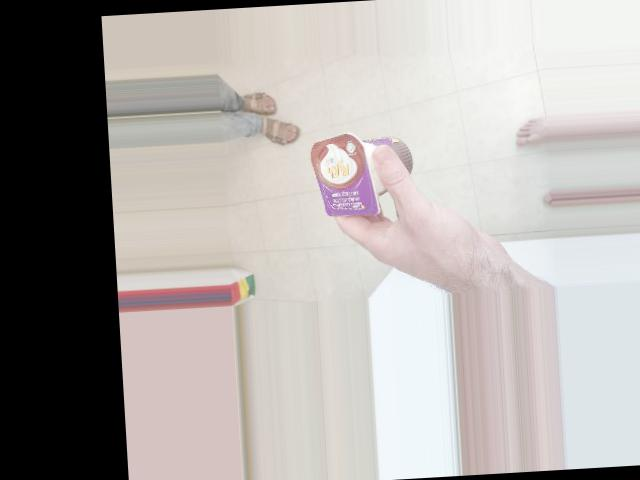milky: (295, 102, 396, 218)
